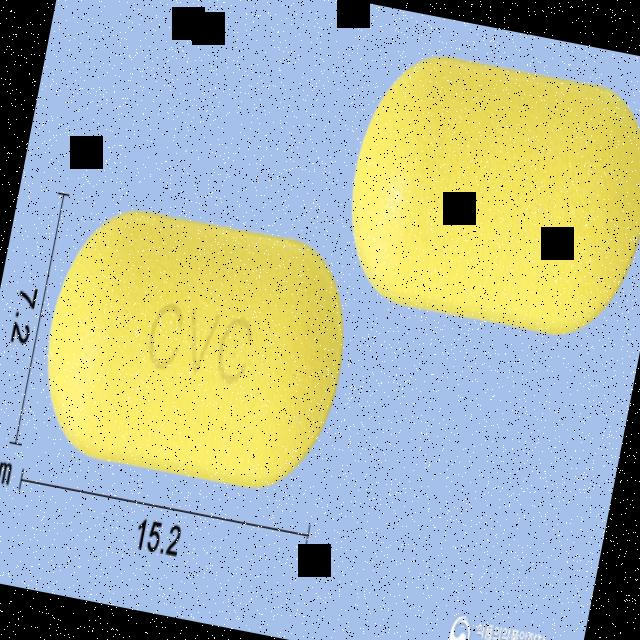Claricin - 500mg: (22, 189, 368, 509)
